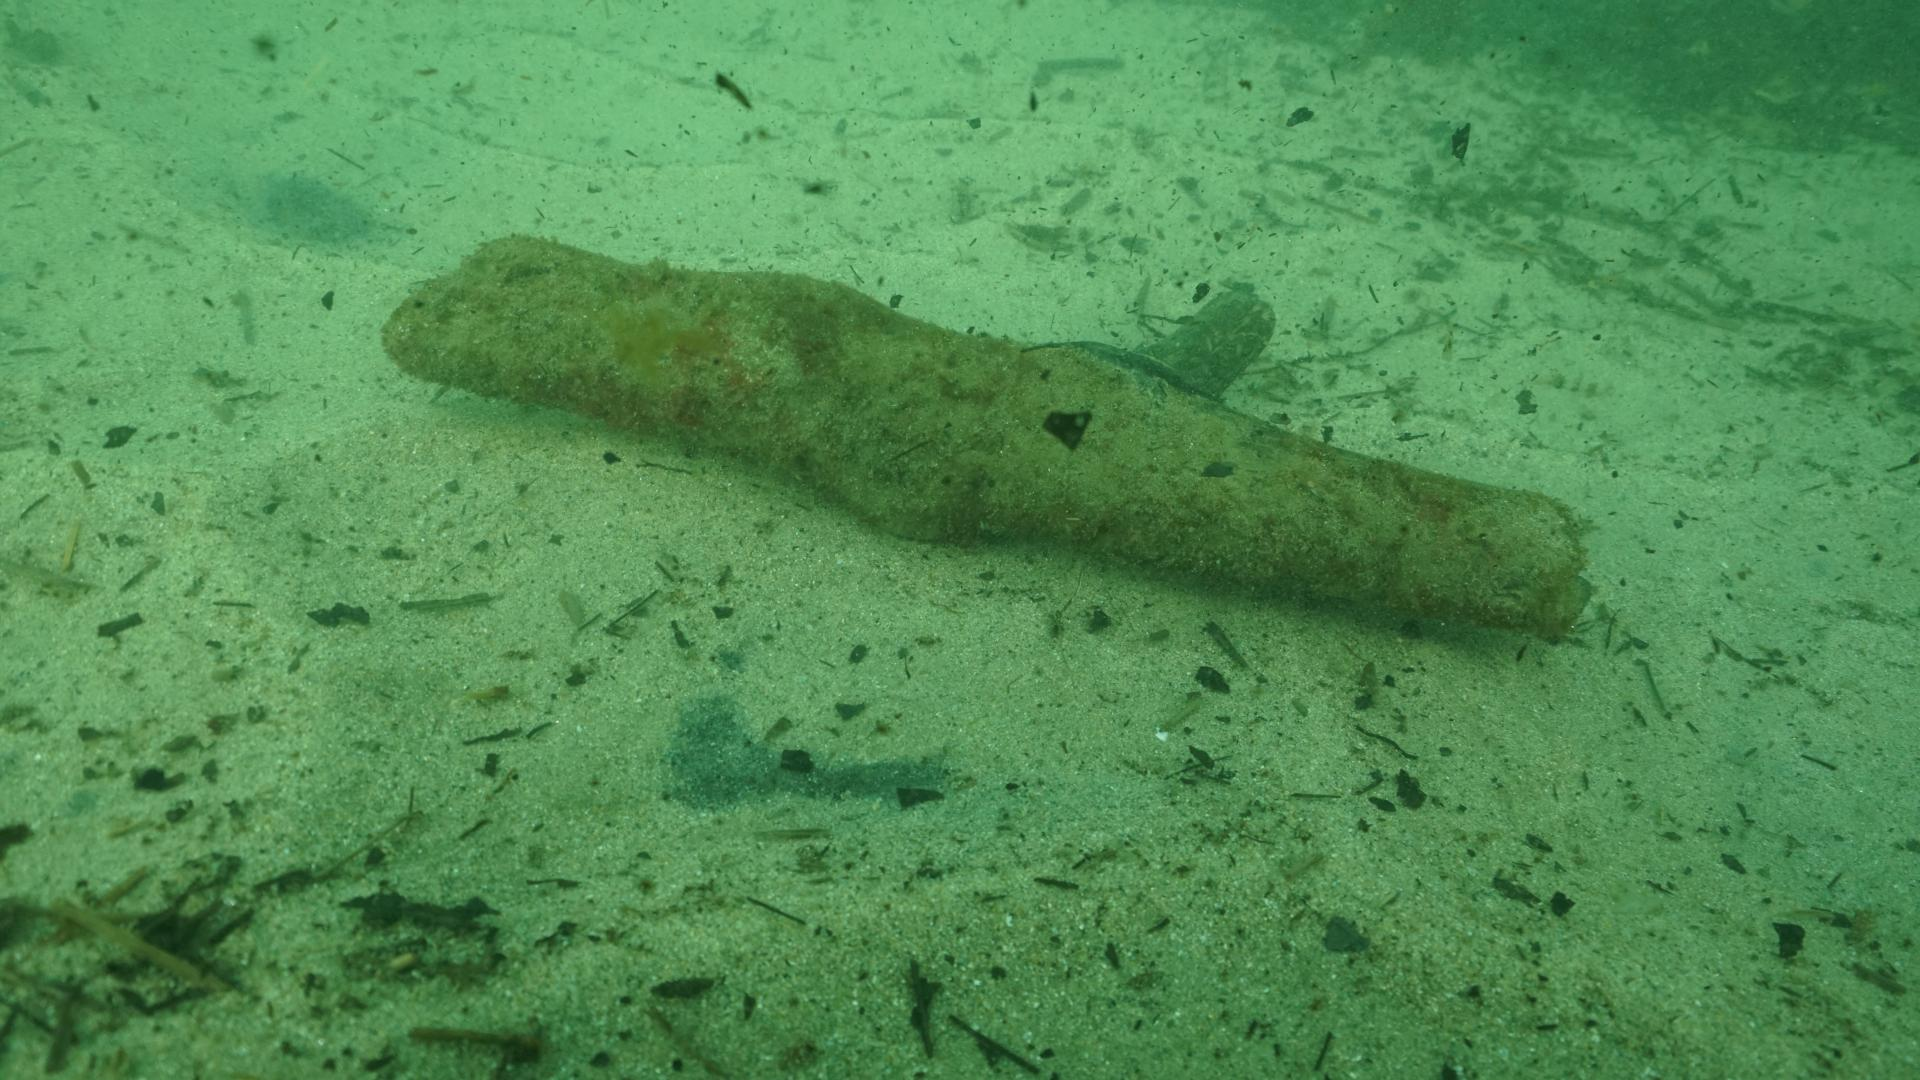wood: (378, 231, 1593, 644)
